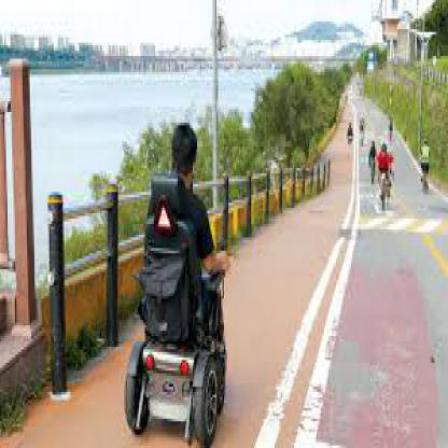wheel: (125, 125, 228, 444)
